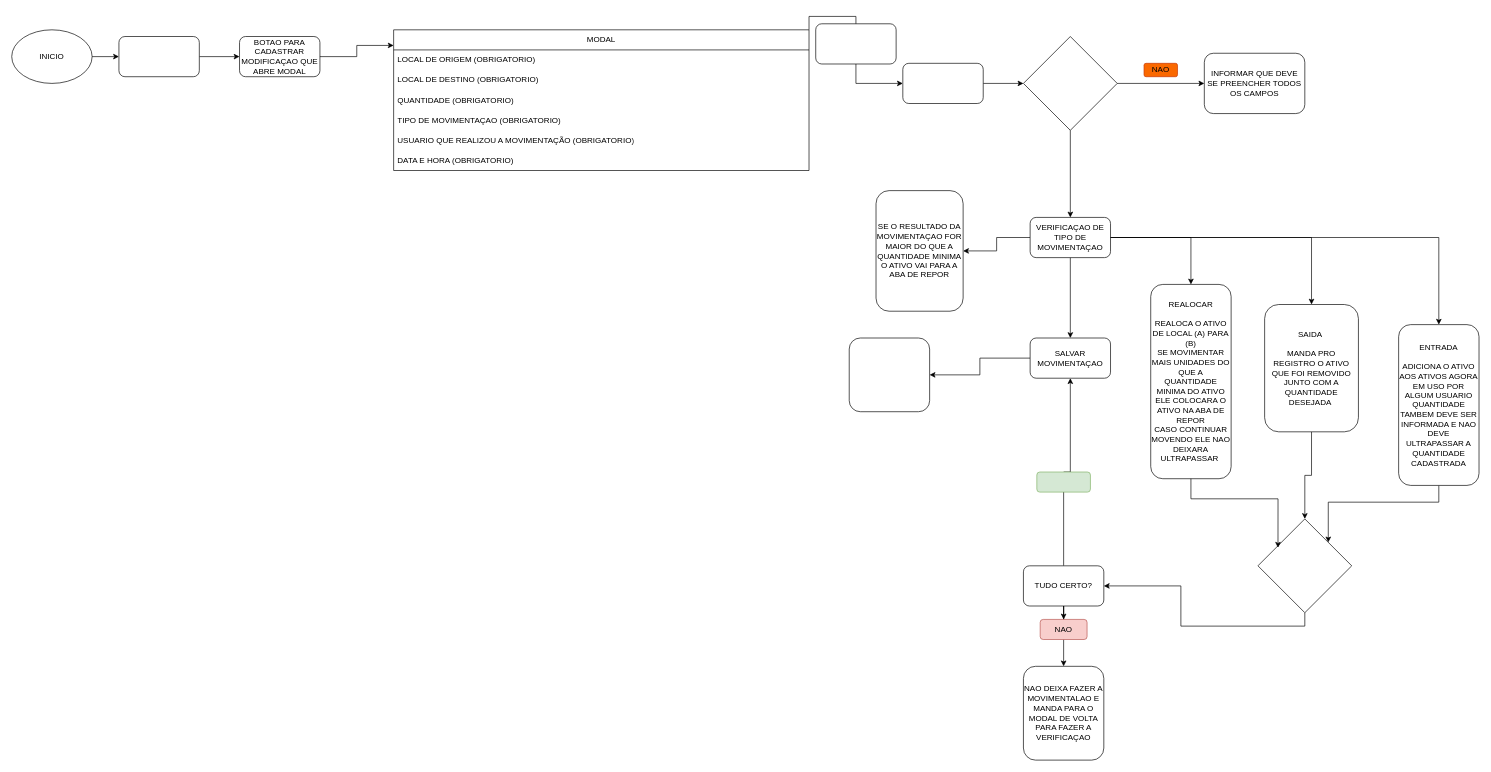
Some shapes in this 1491 by 772 pixel diagram are drawn without their labels. The box of each missing label's shape, as (x1, y1, x2, y2) in pixels:
BOTAO DE SALVAR: (815, 23, 896, 64)
FAZ O INSERT NO BANCO DE DADOS E INFORMA QUE A MOVIMENTAÇAO FOI FEITA: (849, 337, 930, 412)
LISTAGEM DE MOVIMENTAÇOES: (118, 36, 199, 77)
QUANDO CLICADO: (902, 63, 983, 104)
SIM: (1036, 471, 1090, 492)
VALIDAÇAO DA MOVIMENTAÇAO: (1257, 518, 1352, 613)
VALIDAÇAO DOS CAMPOS DO INPUT: (1023, 36, 1117, 130)
